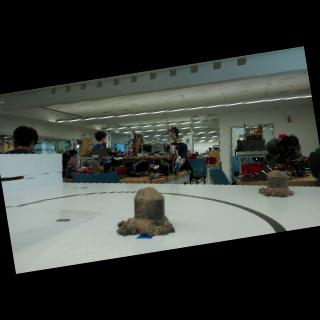teletubby: (150, 184, 152, 187)
